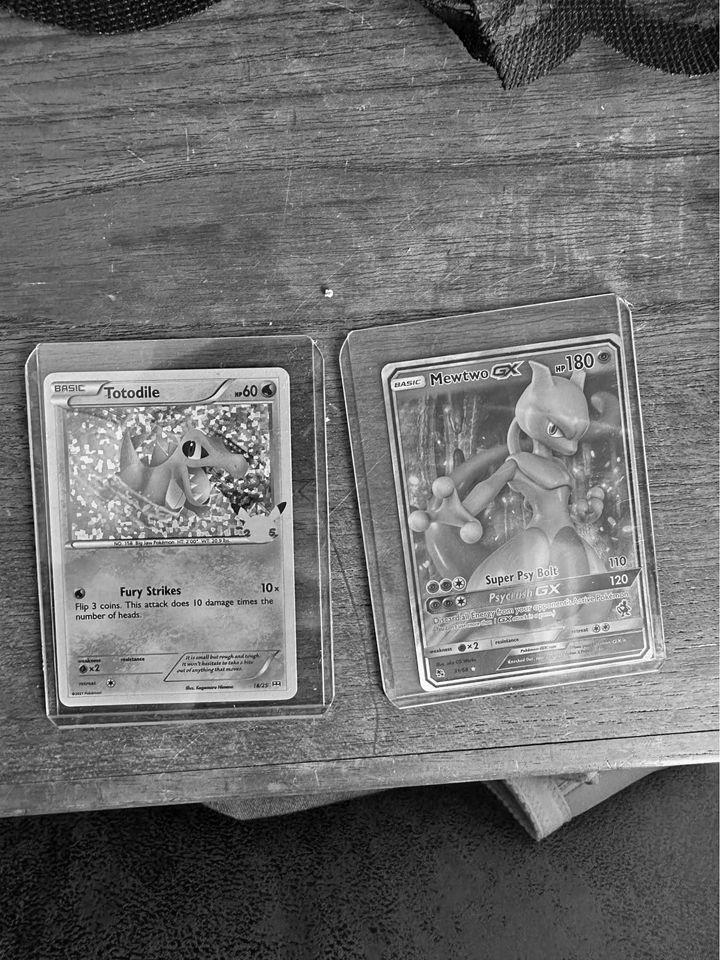card: (380, 331, 654, 694), (43, 365, 299, 708)
